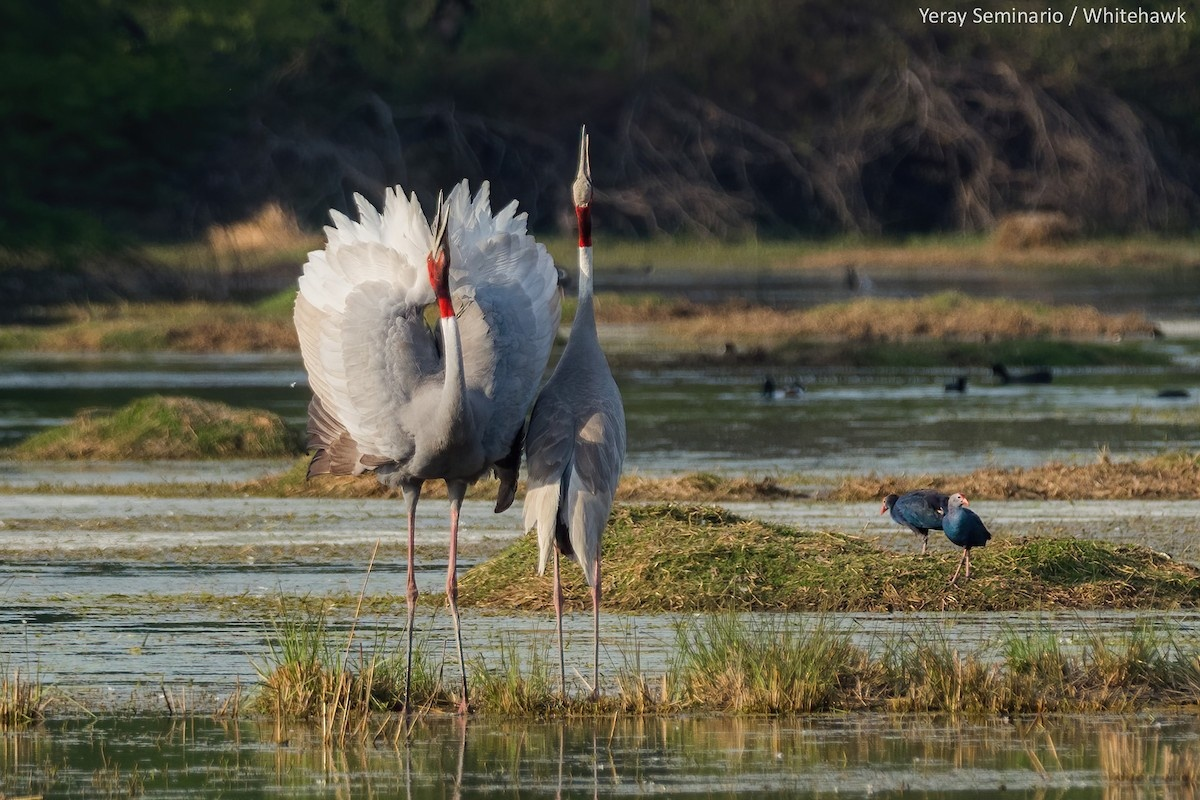crane: (293, 168, 535, 701), (525, 115, 640, 701)
